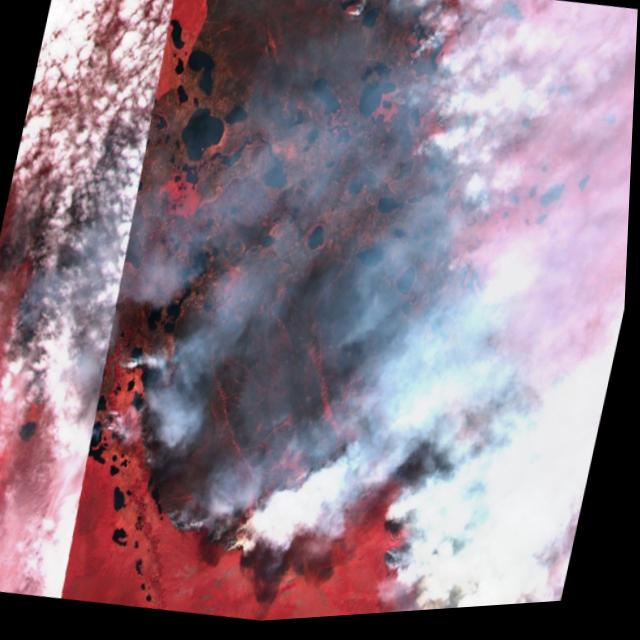fire: (0, 232, 592, 640), (251, 0, 538, 246)
